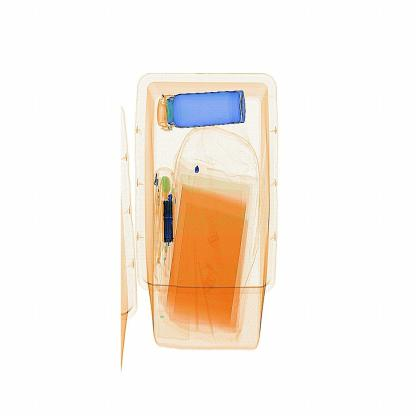scissors: (160, 191, 180, 254)
